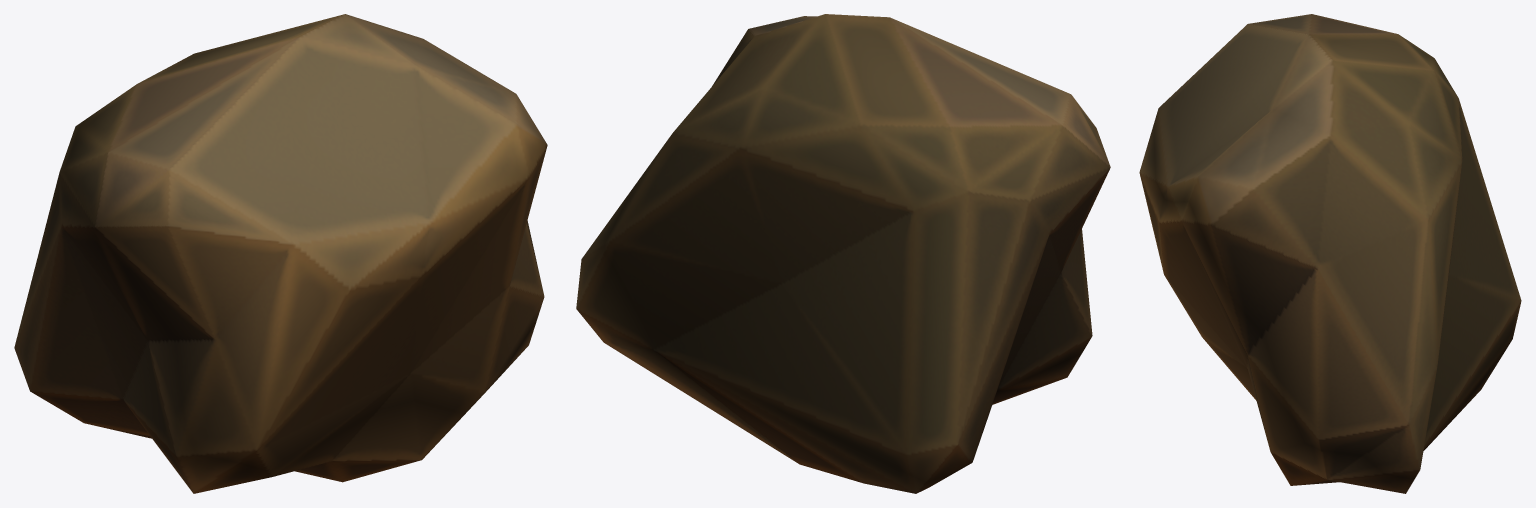
Rendered from meteoro_small.FBX.
3 views of the same model, side by side, from view 1: azimuth 30°, elevation 25°; view 2: azimuth 150°, elevation 25°; view 3: azimuth 270°, elevation 25° (orthographic). The views are drawn at different scales.
Visible parts, largest first — view 1: meteoro_small; view 2: meteoro_small; view 3: meteoro_small.
Part boxes in pixels (box(x1,y1,x2,y2)): meteoro_small: box(14, 14, 547, 493); meteoro_small: box(576, 14, 1110, 493); meteoro_small: box(1139, 14, 1521, 493).
Size of what is drawn, in the model's own units: 21.57 by 15.56 by 19.07.
